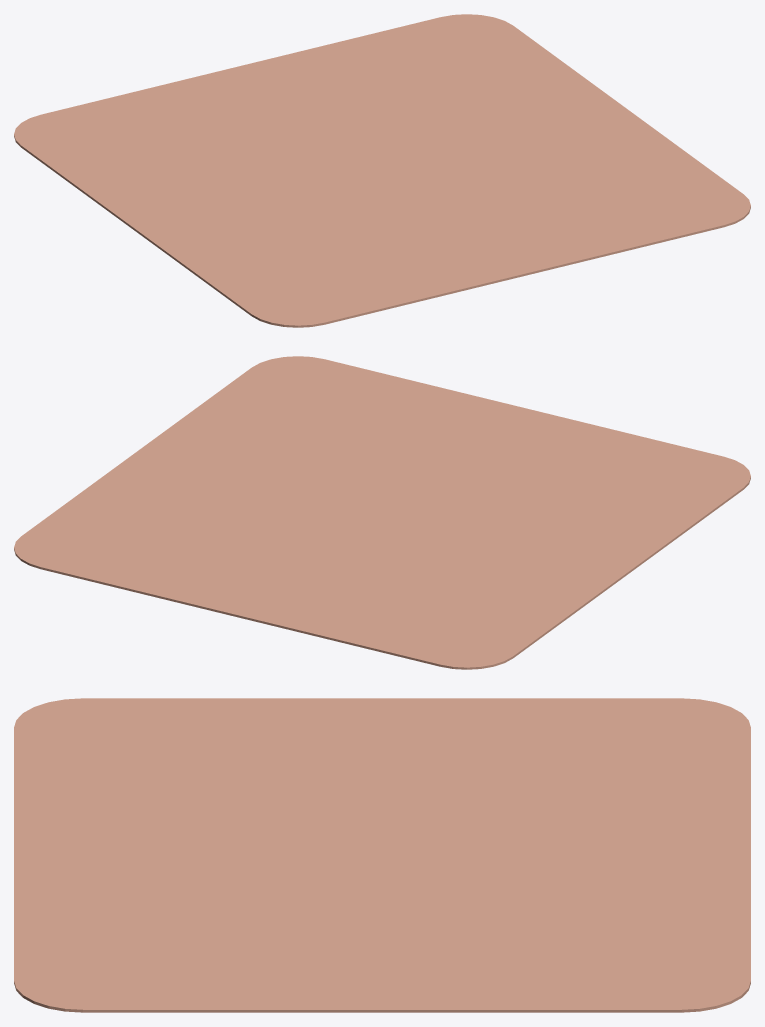
The picture shows the model from 3 angles, top to bottom: view 1: azimuth 30°, elevation 25°; view 2: azimuth 150°, elevation 25°; view 3: azimuth 270°, elevation 25°; orthographic projection. The views are drawn at different scales.
Visible parts, largest first — view 1: COM-02 Floor Surface; view 2: COM-02 Floor Surface; view 3: COM-02 Floor Surface.
Boxes of the visible parts, x1,y1,x2,y2 form: COM-02 Floor Surface: (14,14,750,327); COM-02 Floor Surface: (14,356,750,669); COM-02 Floor Surface: (14,698,750,1012).
Bounding box in the file's own units: 192 × 0.8 × 192.
